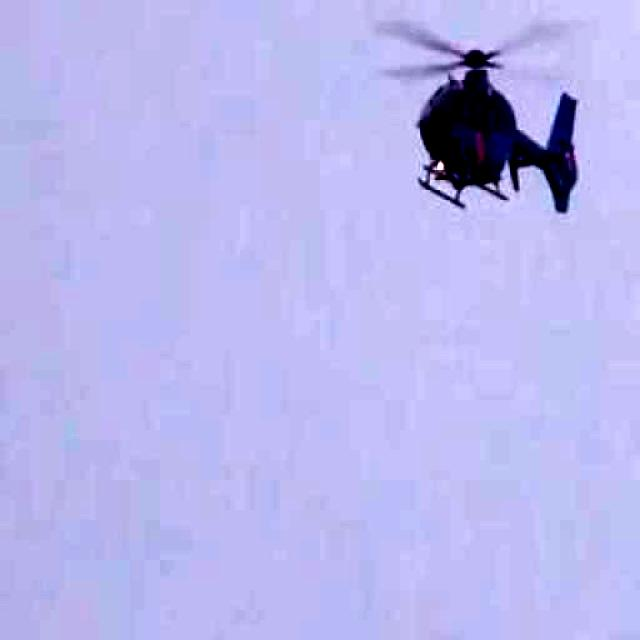drone: (339, 0, 621, 249)
